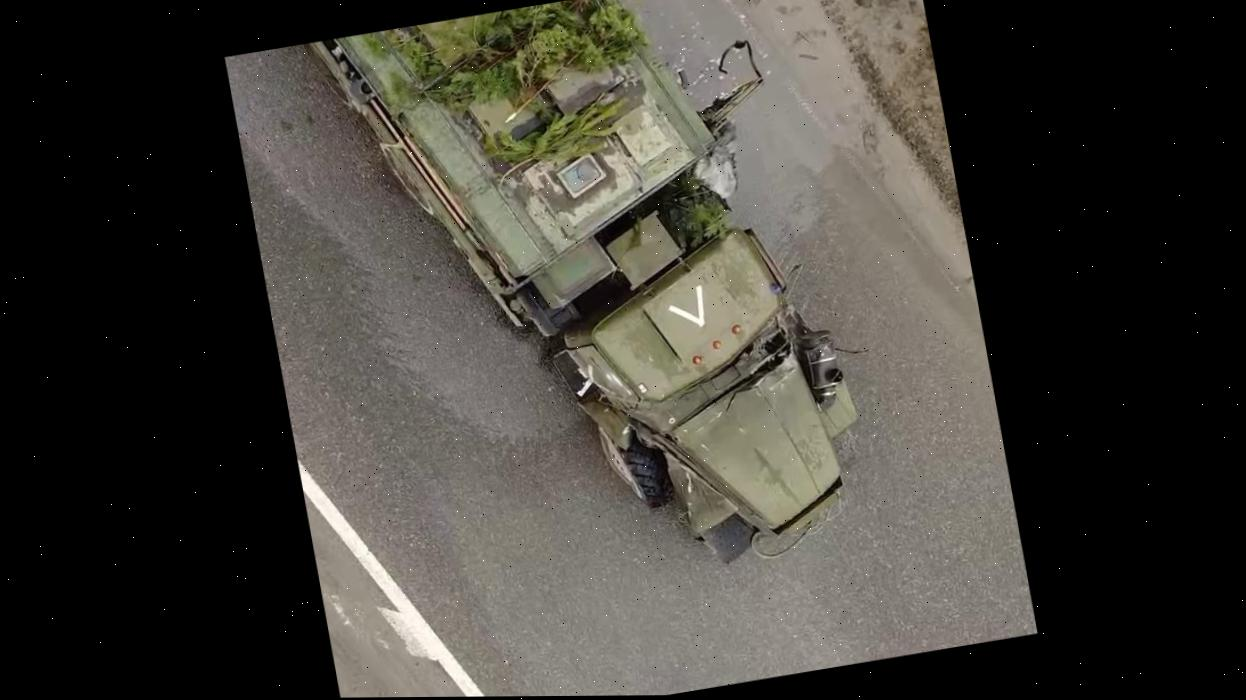truck: (233, 0, 884, 635)
